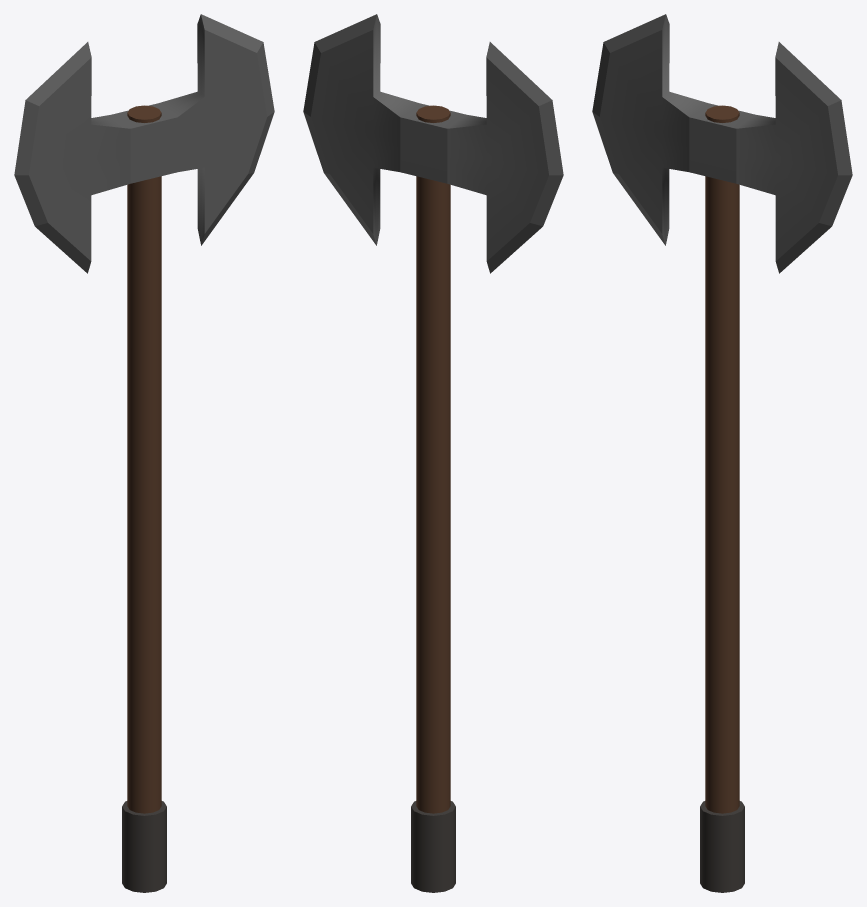
The model's file is Double Axe.glb.
The picture shows the model from 3 angles, left to right: view 1: azimuth 30°, elevation 25°; view 2: azimuth 150°, elevation 25°; view 3: azimuth 330°, elevation 25°; orthographic projection.
Visible parts, largest first — view 1: Double Axe; view 2: Double Axe; view 3: Double Axe.
Boxes of the visible parts, left/top/right/bottom form: Double Axe: left=14, top=14, right=274, bottom=892; Double Axe: left=303, top=14, right=563, bottom=892; Double Axe: left=592, top=14, right=852, bottom=892.
Size of the model in its own units: 0.3536 by 1.11 by 0.0528.
1 material, 1 textured.
